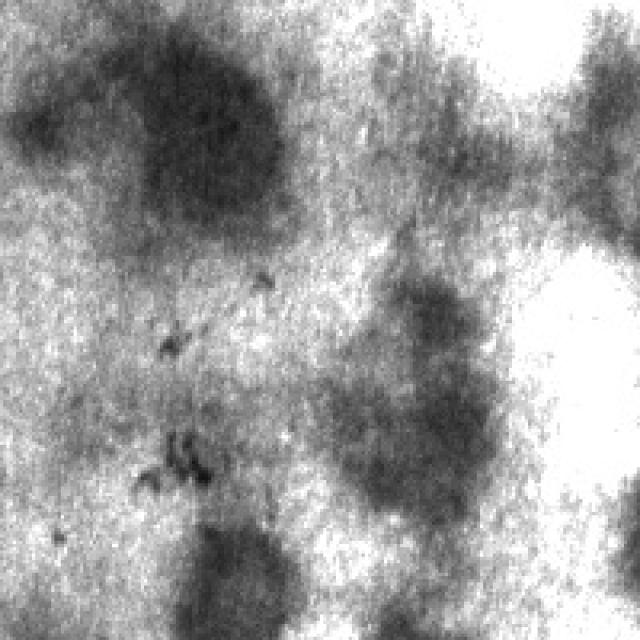patches: (10, 13, 275, 230), (400, 29, 637, 240), (323, 272, 496, 525), (170, 496, 300, 630)
